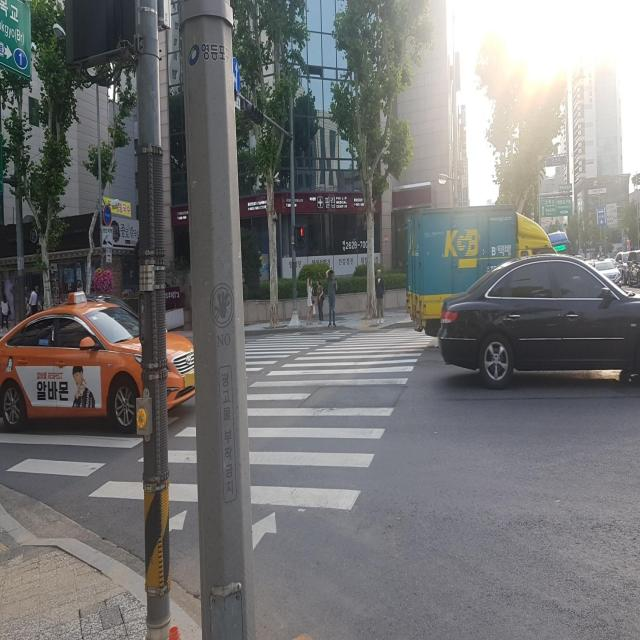빨간불: (294, 225, 305, 249)
횡단보도: (0, 310, 443, 555)
